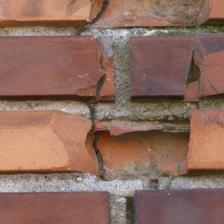Crack: (80, 58, 116, 192), (75, 2, 114, 40)
